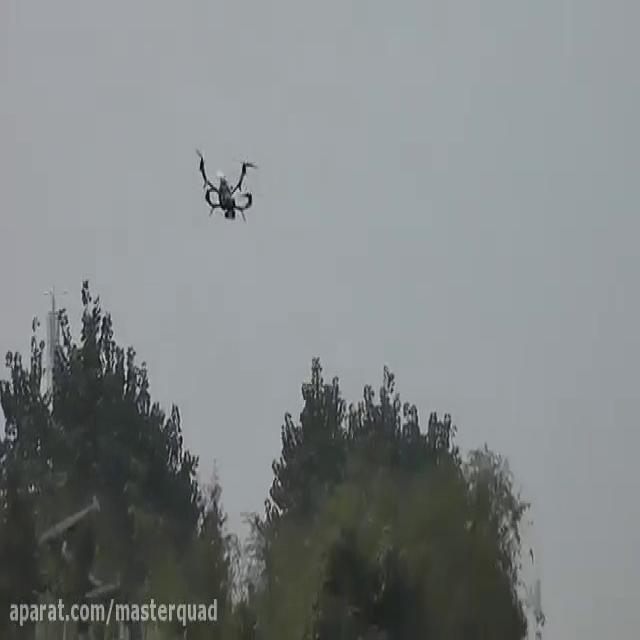drone: (190, 148, 260, 222)
